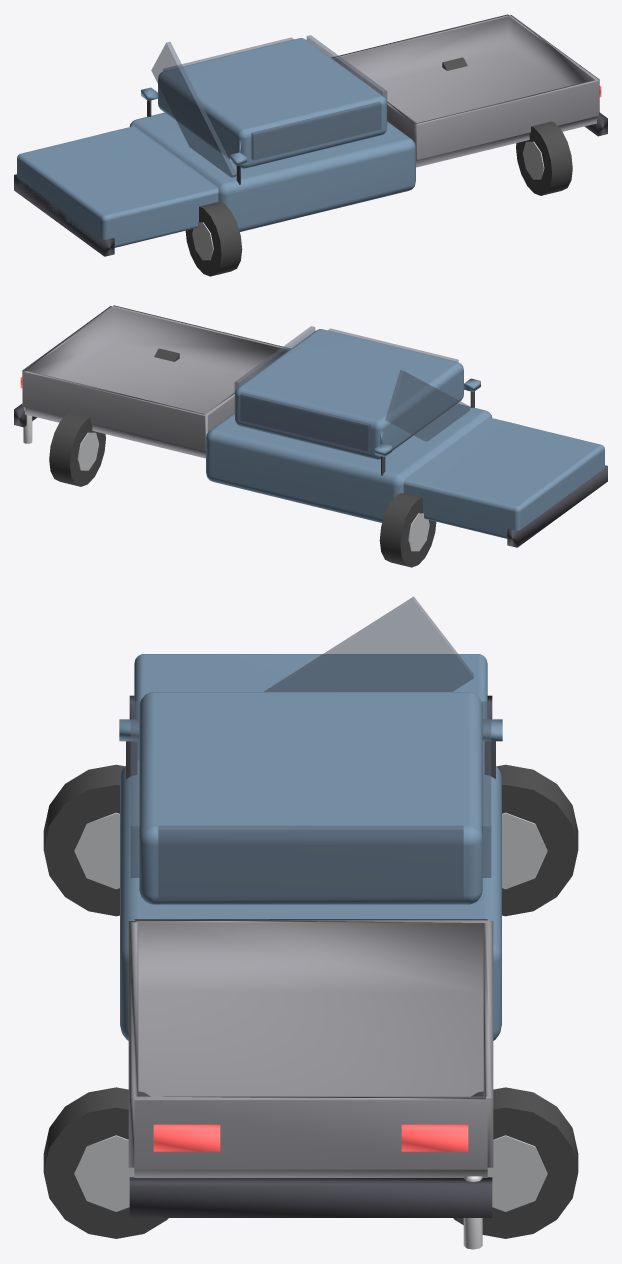
File: pickup_truck.glb
The picture shows the model from 3 angles, top to bottom: view 1: azimuth 30°, elevation 25°; view 2: azimuth 150°, elevation 25°; view 3: azimuth 270°, elevation 25°; orthographic projection. The views are drawn at different scales.
Visible parts, largest first — view 1: merged_body_paint, merged_bed_metal, windshield_front, cab_window_l, tire_bl, tire_fl, merged_trim_black, cab_window_rear, rim_bl, rim_fl, cab_window_r; view 2: merged_body_paint, merged_bed_metal, cab_window_r, windshield_front, tire_br, tire_fr, merged_trim_black, cab_window_rear, rim_br, rim_fr, cab_window_l; view 3: merged_body_paint, merged_bed_metal, cab_window_rear, merged_trim_black, windshield_front, tire_bl, tire_br, tire_fl, tire_fr, merged_taillight, rim_bl, rim_br (+4 smaller).
Boxes of the visible parts, x1,y1,x2,y2 form: merged_body_paint: (17, 38, 415, 247); merged_bed_metal: (331, 14, 599, 167); windshield_front: (151, 41, 236, 177); cab_window_l: (251, 102, 381, 160); tire_bl: (516, 121, 572, 195); tire_fl: (185, 202, 242, 276); merged_trim_black: (14, 100, 607, 256); cab_window_rear: (306, 35, 387, 124); rim_bl: (522, 141, 544, 179); rim_fl: (192, 222, 213, 260); cab_window_r: (163, 37, 293, 70); merged_body_paint: (206, 329, 604, 538); merged_bed_metal: (22, 305, 290, 458); cab_window_r: (240, 393, 370, 451); windshield_front: (385, 370, 470, 441); tire_br: (49, 412, 105, 486); tire_fr: (379, 493, 436, 567); merged_trim_black: (14, 391, 607, 547); cab_window_rear: (234, 326, 315, 415); rim_br: (77, 432, 99, 470); rim_fr: (408, 513, 429, 551); cab_window_l: (328, 328, 458, 361); merged_body_paint: (119, 654, 502, 1040); merged_bed_metal: (128, 919, 493, 1177); cab_window_rear: (158, 825, 463, 898); merged_trim_black: (126, 695, 495, 1217); windshield_front: (264, 596, 473, 691); tire_bl: (43, 1087, 168, 1238); tire_br: (453, 1087, 578, 1238); tire_fl: (43, 764, 124, 916); tire_fr: (497, 764, 578, 916); merged_taillight: (153, 1124, 468, 1151); rim_bl: (74, 1135, 134, 1211); rim_br: (487, 1135, 547, 1211).
Bounding box in the file's own units: 6.09 × 1.94 × 2.8.
